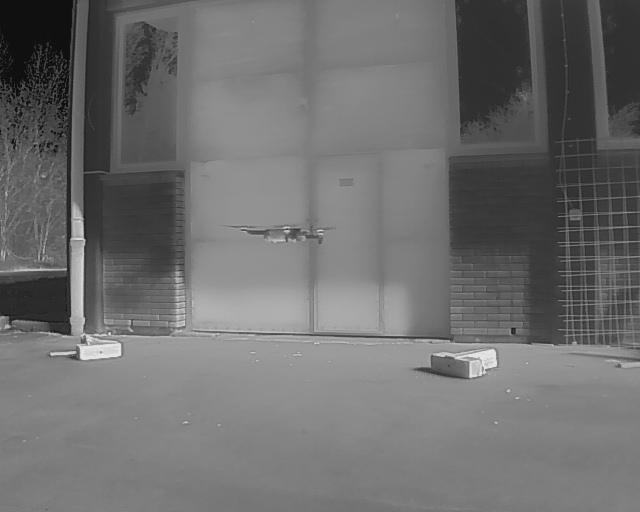drone: (219, 213, 342, 253)
